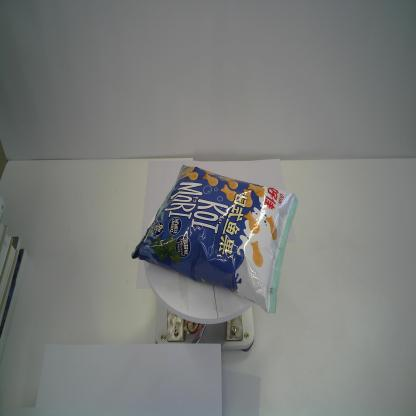Puffed Food: (130, 163, 299, 315)
